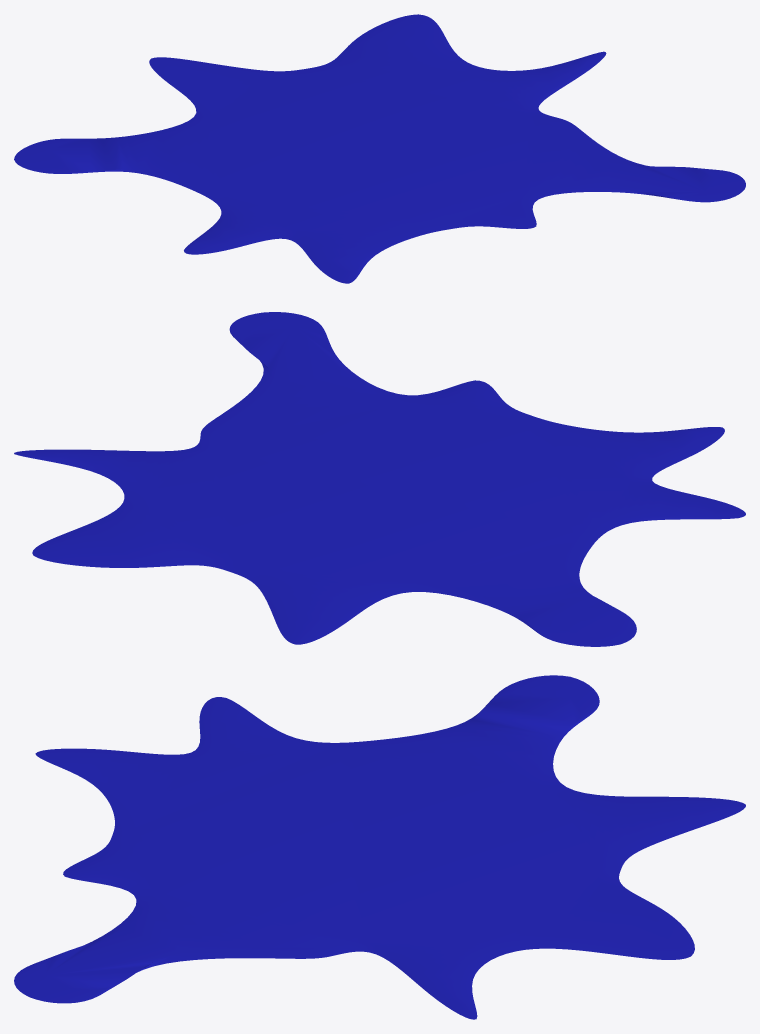
Rendered from Blob.fbx.
3 renders of one model, top to bottom at view 1: azimuth 30°, elevation 25°; view 2: azimuth 150°, elevation 25°; view 3: azimuth 270°, elevation 25°, orthographic. The views are drawn at different scales.
Visible parts, largest first — view 1: Cylinder.001; view 2: Cylinder.001; view 3: Cylinder.001.
Part boxes in pixels (x1,y1,x2,y2): Cylinder.001: (14, 14, 745, 283); Cylinder.001: (14, 312, 745, 646); Cylinder.001: (14, 675, 745, 1019).
Bounding box in the file's own units: 312 × 0.4737 × 281.
